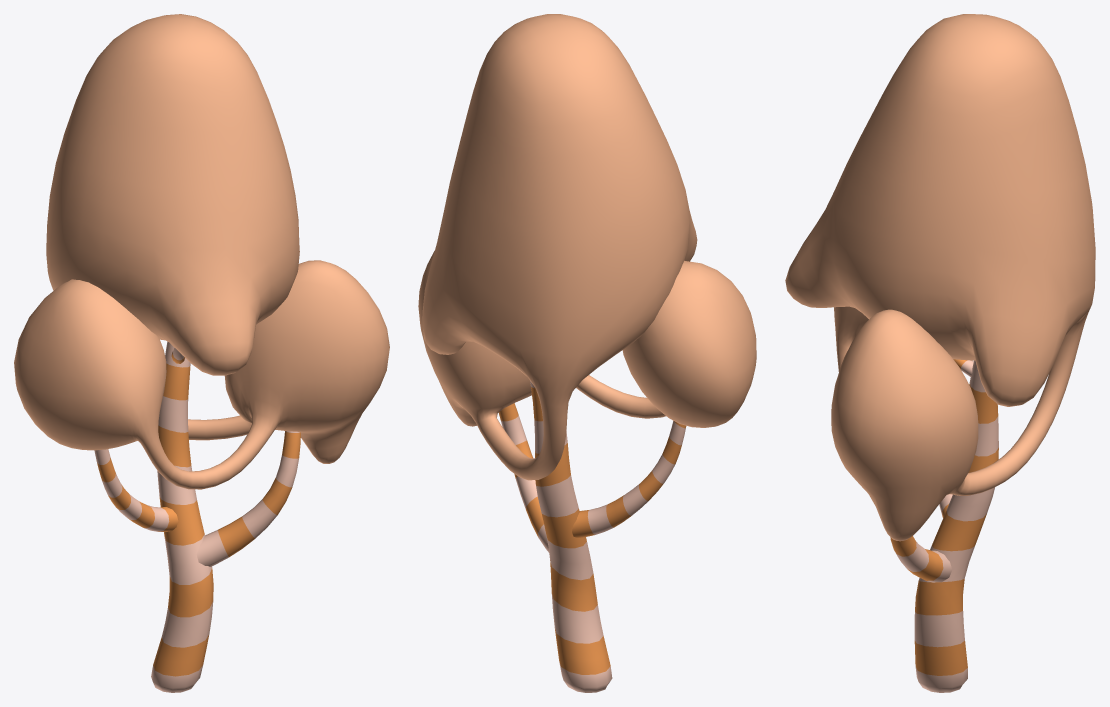
The model's file is Tree_CottonCandy_03.fbx.
3 renders of one model, left to right at view 1: azimuth 30°, elevation 25°; view 2: azimuth 150°, elevation 25°; view 3: azimuth 270°, elevation 25°, orthographic. The views are drawn at different scales.
Parts seen in each view (by area): view 1: Tree_CottonCandy_03_LOD0; view 2: Tree_CottonCandy_03_LOD0; view 3: Tree_CottonCandy_03_LOD0.
Boxes of the visible parts, <box> form: Tree_CottonCandy_03_LOD0: <box>14,14,389,692</box>; Tree_CottonCandy_03_LOD0: <box>418,14,756,692</box>; Tree_CottonCandy_03_LOD0: <box>785,14,1095,692</box>.
Size of what is drawn, in the model's own units: 843 by 1591 by 663.
